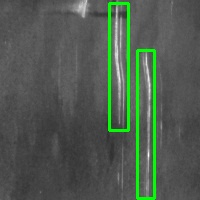scratches: (137, 50, 154, 198), (109, 3, 128, 130)
